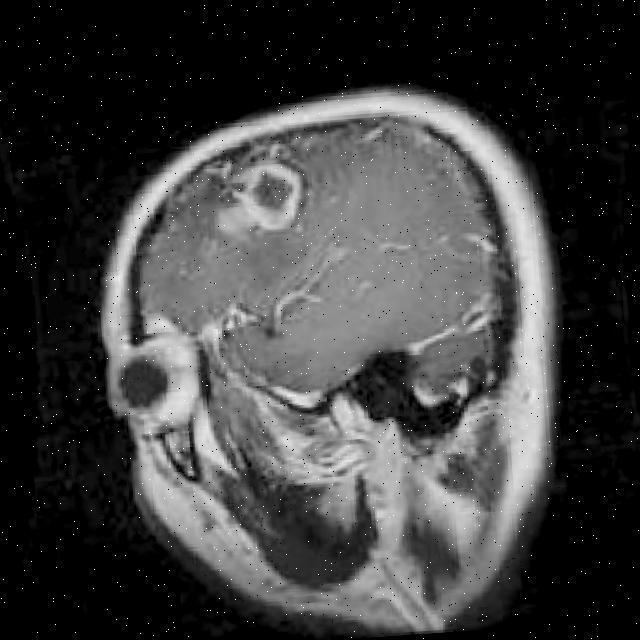MCI: (204, 154, 350, 274)
